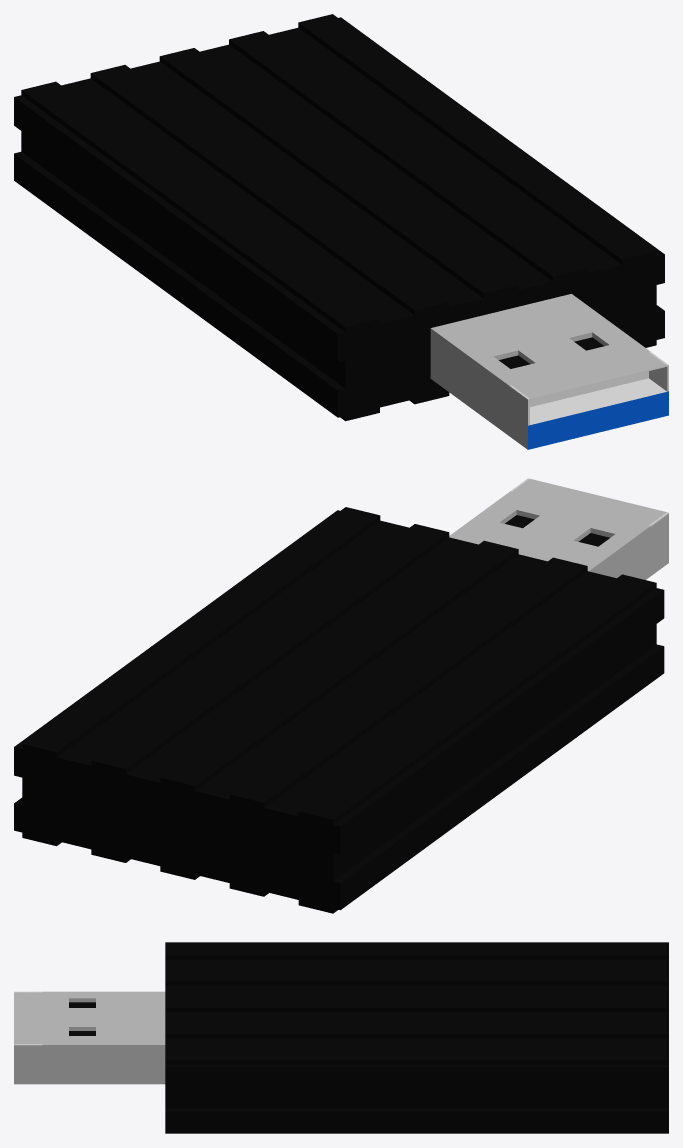
File: USB.fbx
3 renders of one model, top to bottom at view 1: azimuth 30°, elevation 25°; view 2: azimuth 150°, elevation 25°; view 3: azimuth 270°, elevation 25°, orthographic. The views are drawn at different scales.
Visible parts, largest first — view 1: USB; view 2: USB; view 3: USB.
Part boxes in pixels (bbox=[...]): USB: bbox=[14, 14, 668, 449]; USB: bbox=[14, 478, 668, 913]; USB: bbox=[14, 942, 668, 1133].
Bounding box in the file's own units: 1.67 × 0.4606 × 3.74.
